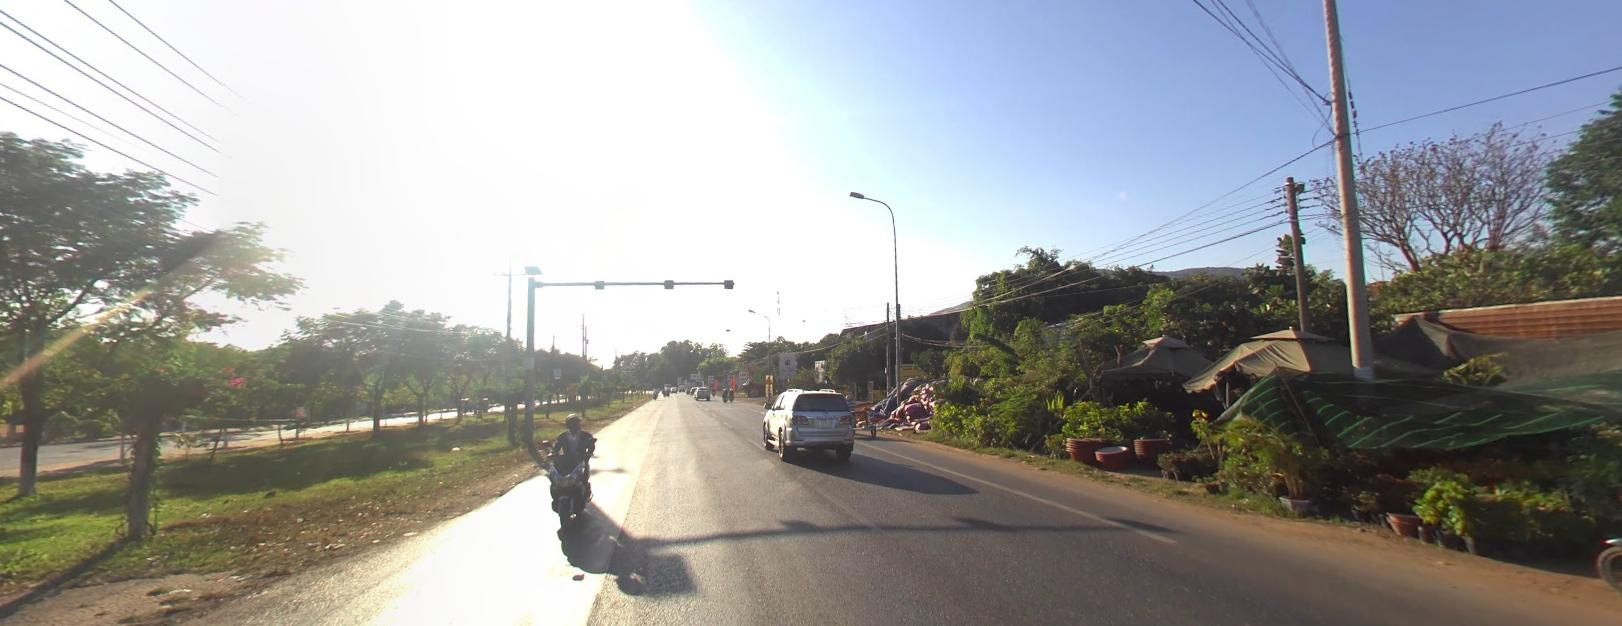Nguy hiem: (765, 375, 773, 382)
